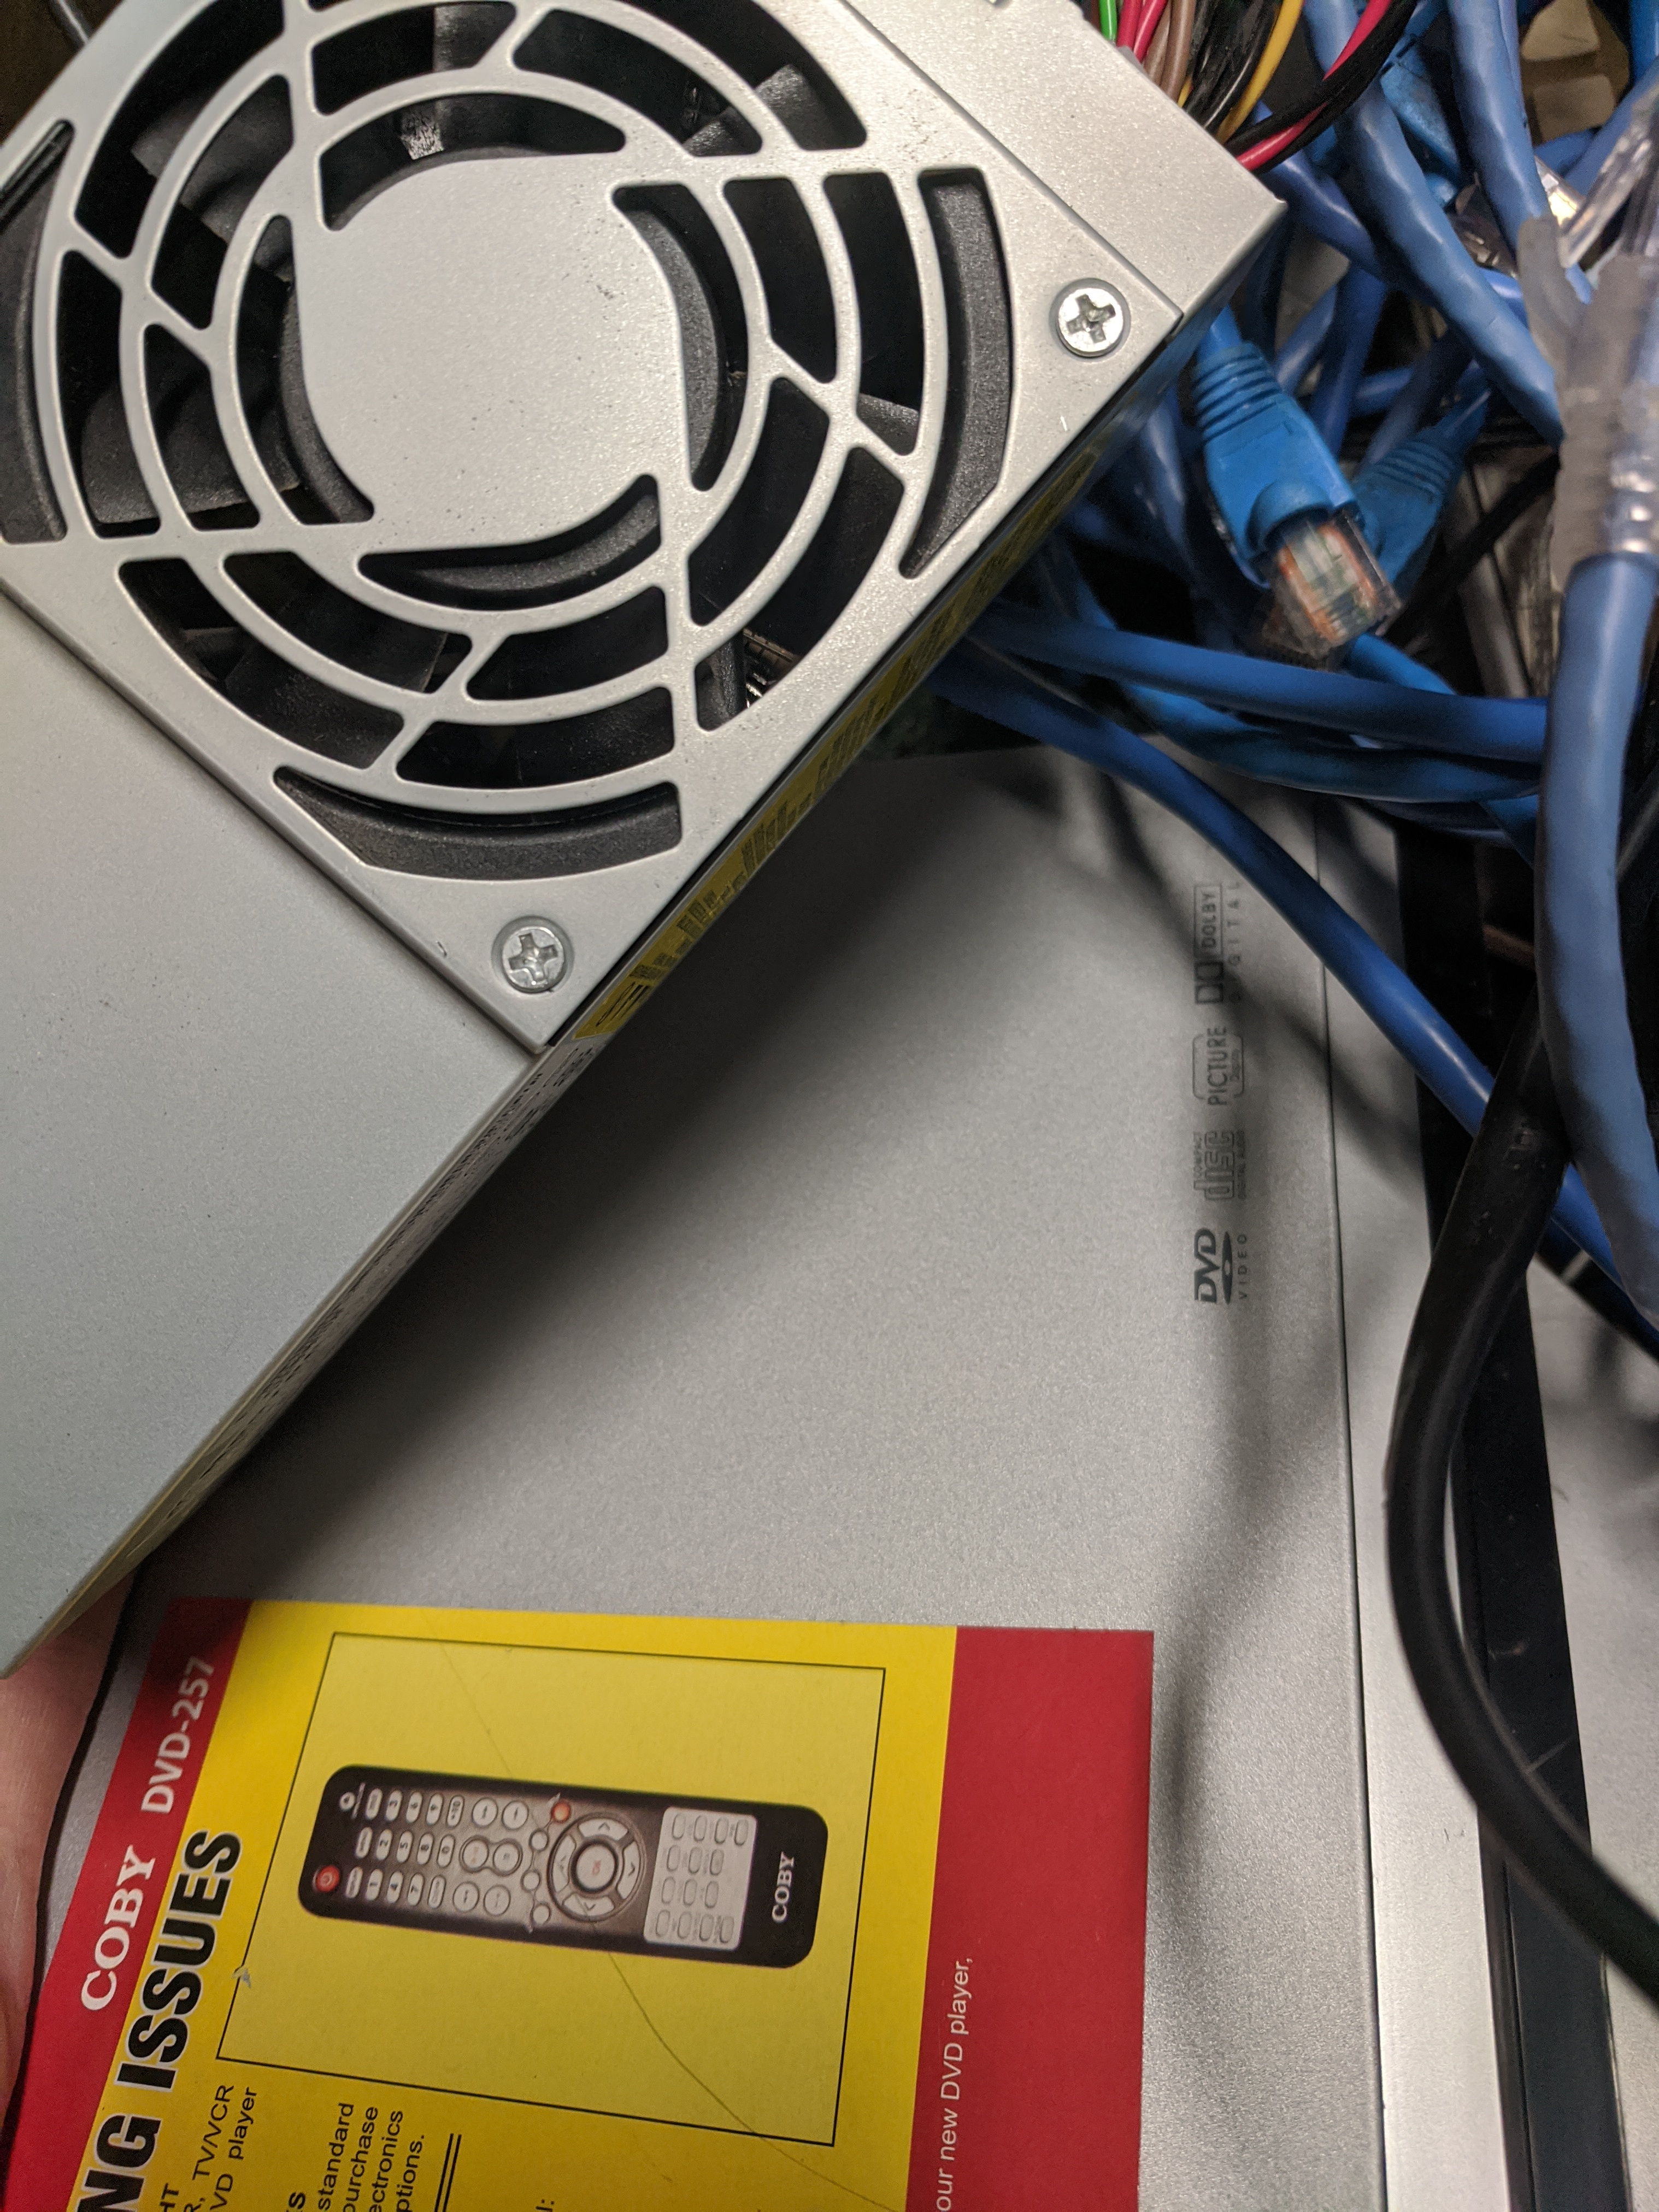cross_recessed_screw: (472, 899, 575, 1005), (1044, 268, 1134, 364)
